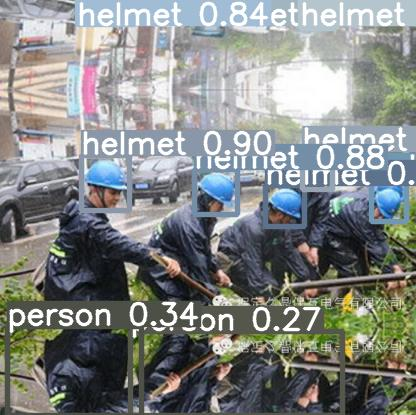helmet: (81, 155, 129, 210), (194, 169, 237, 214), (265, 185, 304, 226), (371, 178, 406, 221), (77, 0, 134, 24), (302, 151, 332, 189), (300, 0, 335, 28), (194, 0, 239, 10)
person: (130, 331, 342, 415), (7, 326, 141, 415)
